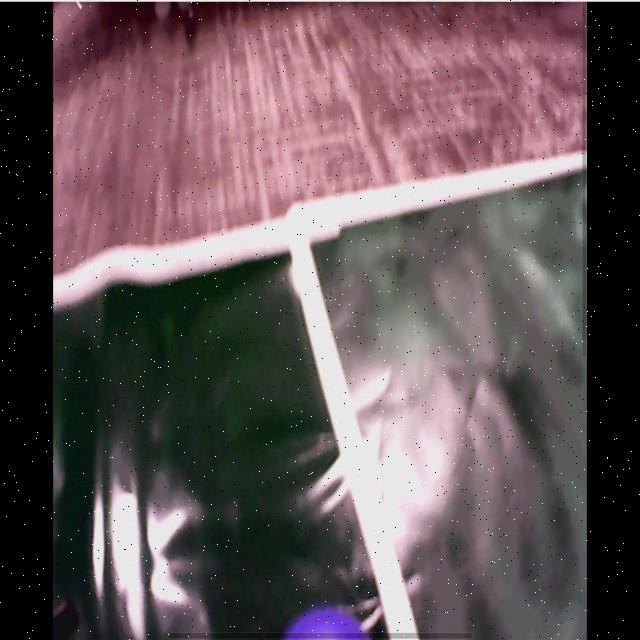ball: (291, 609, 366, 639)
